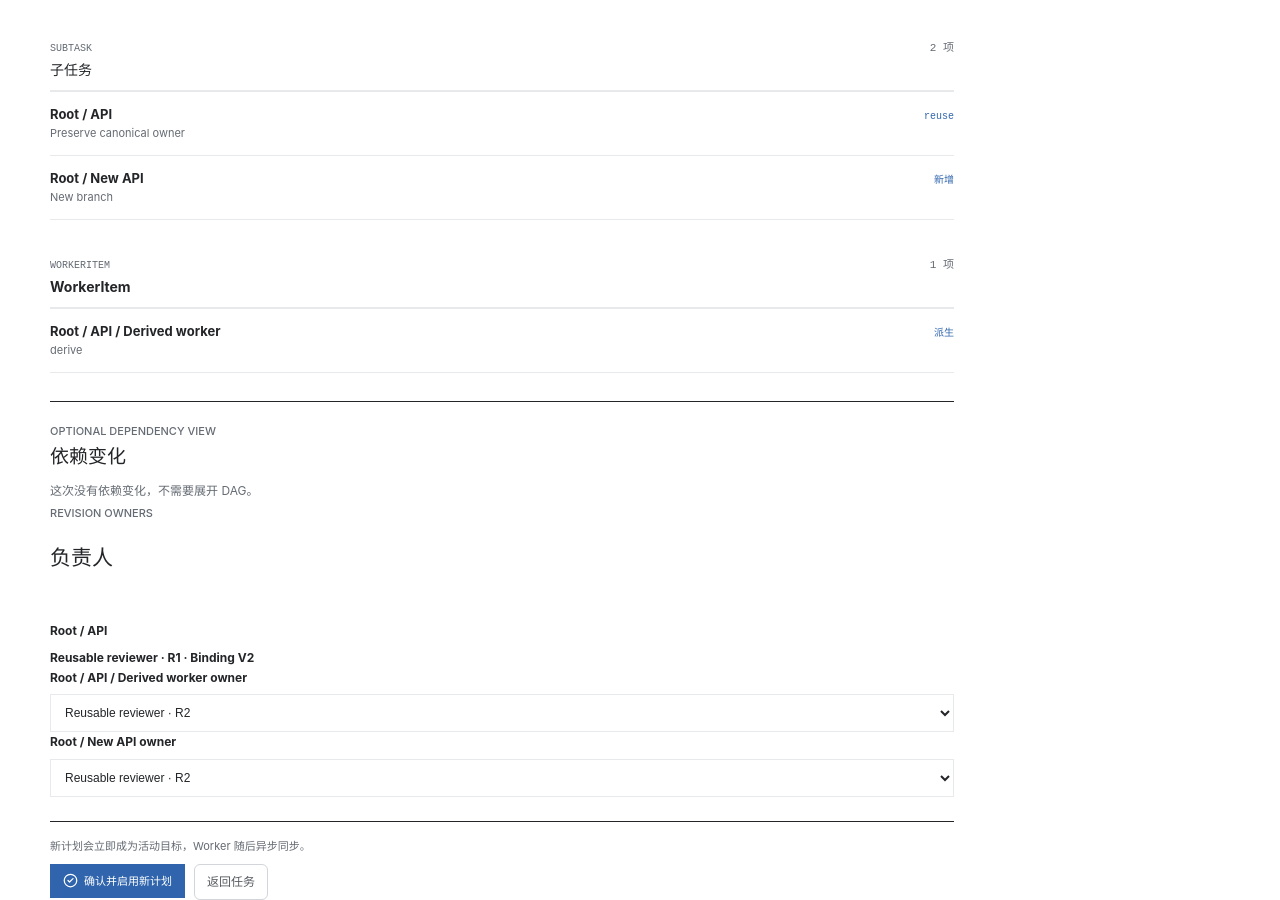
native PlanRevisionPage › uses exact saved REUSE pins and confirms only independently selected NEW owners
(page scrolled)
Expected: the text "Reusable reviewer · R1 · Binding V2" is shown, [50, 650, 254, 665]
Select "当前用户" in the dropdown labelled "Root / New API owner" at {"x": 502, "y": 778}, box [50, 759, 954, 797]
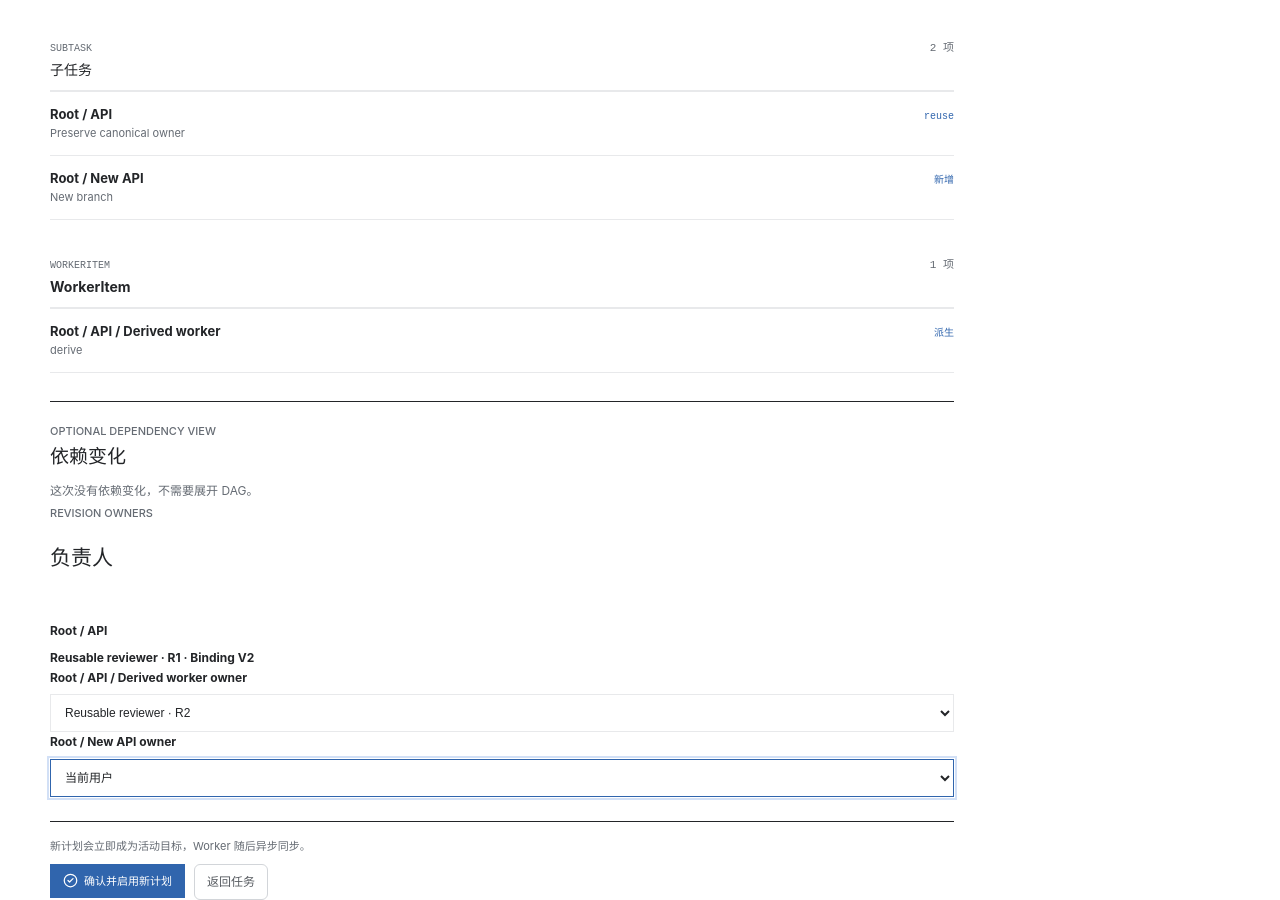
Click the button "确认并启用新计划" at {"x": 118, "y": 881}, box [50, 864, 185, 898]
(page scrolled)
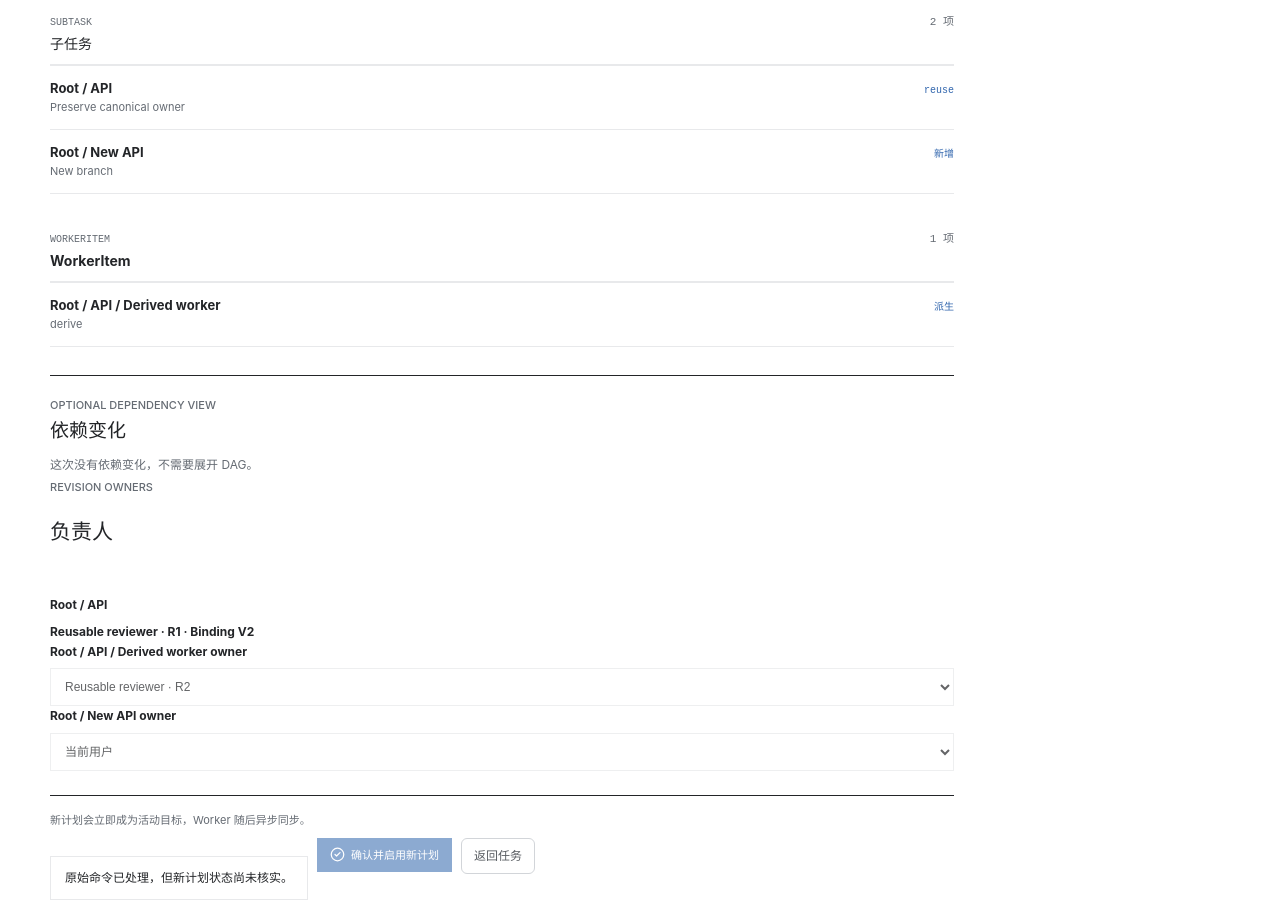
Result: the text "原始命令已处理，但新计划状态尚未核实。" is shown at [50, 856, 308, 899]
